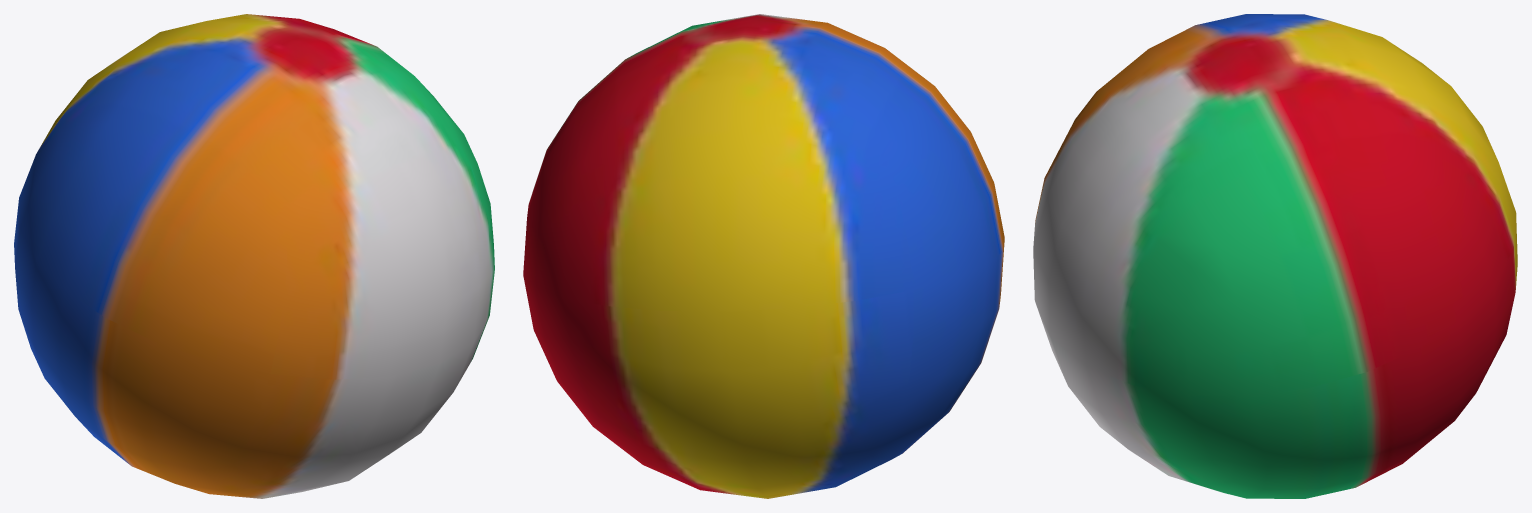
3 renders of one model, left to right at view 1: azimuth 30°, elevation 25°; view 2: azimuth 150°, elevation 25°; view 3: azimuth 270°, elevation 25°, orthographic.
Size of the model in its own units: 5.75 by 5.8 by 5.76.
1 material, 1 textured.
